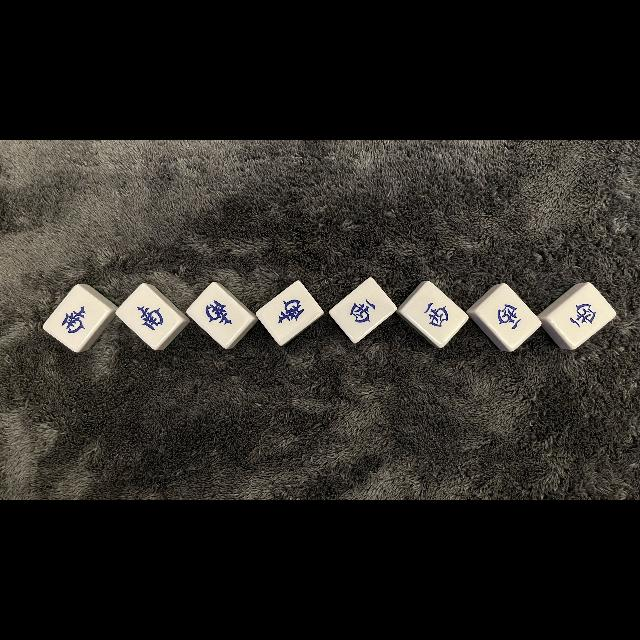ws: (195, 290, 242, 338), (125, 294, 173, 340), (268, 290, 314, 334), (52, 298, 96, 342)
ww: (410, 292, 458, 336), (484, 292, 528, 340), (561, 292, 605, 338), (340, 288, 384, 332)
